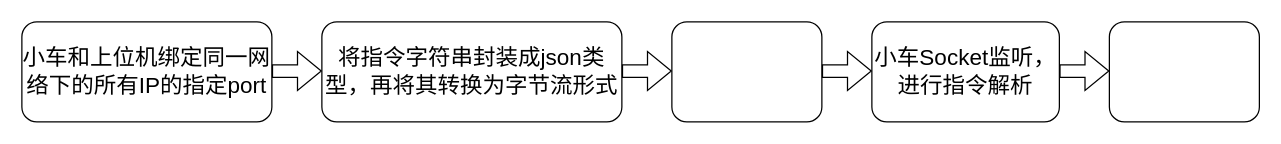
Some shapes in this 1281 by 144 pixel diagram are drawn without their labels. The box of each missing label's shape, as (x1, y1, x2, y2) in pixels:
UDP发送: (671, 21, 822, 122)
电机驱动: (1108, 21, 1259, 122)
